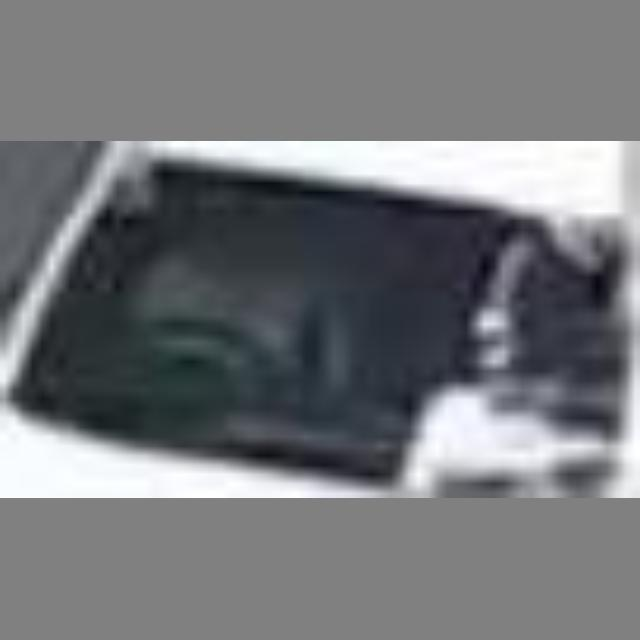tidak-pakai: (94, 179, 339, 423)
